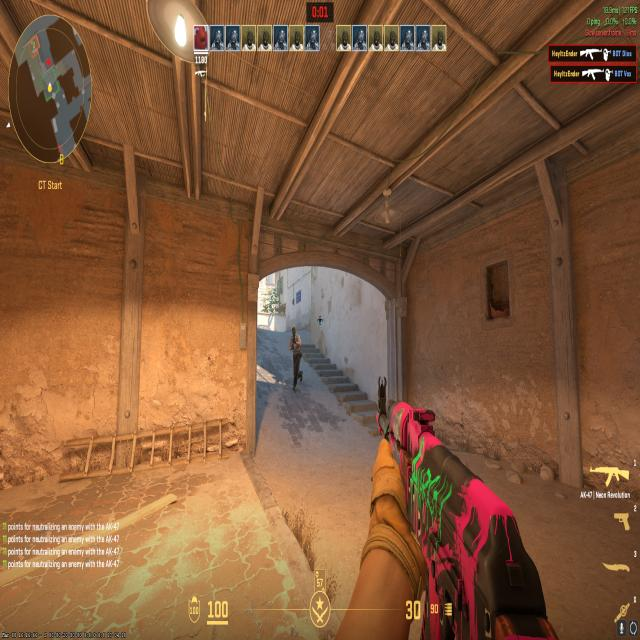t: (282, 324, 309, 392)
